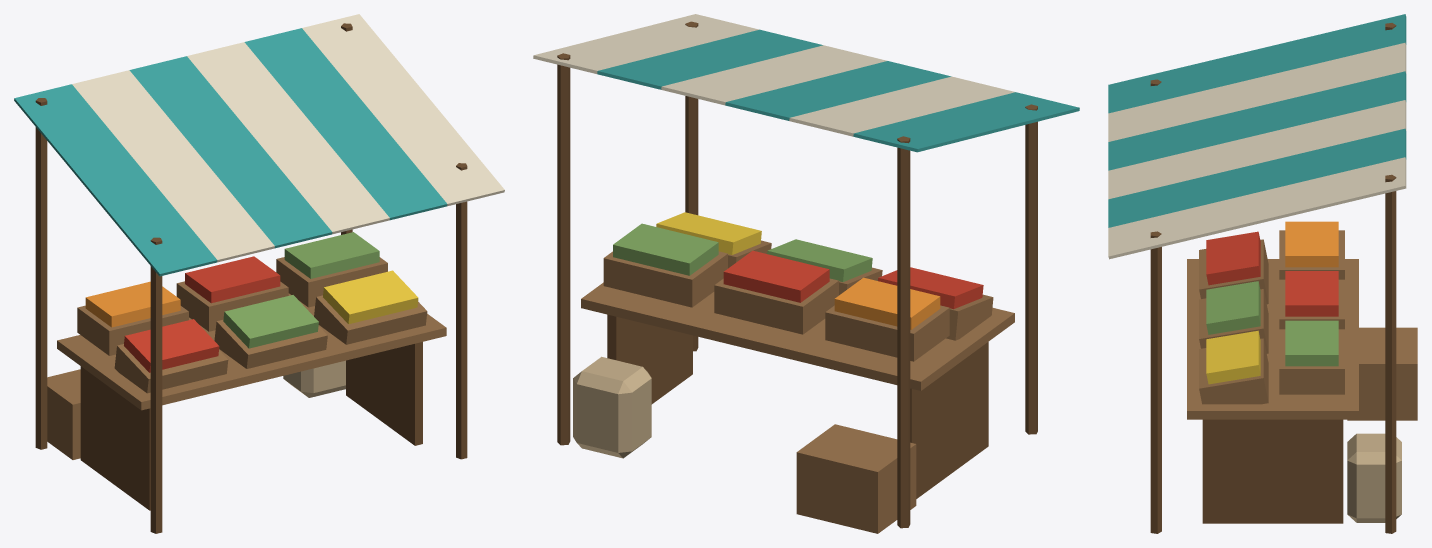
File: produce_stall.glb
3 views of the same model, side by side, from view 1: azimuth 30°, elevation 25°; view 2: azimuth 150°, elevation 25°; view 3: azimuth 270°, elevation 25° (orthographic). The views are drawn at different scales.
Visible parts, largest first — view 1: produce_stall; view 2: produce_stall; view 3: produce_stall.
Part boxes in pixels (x1,y1,x2,y2): produce_stall: (14,14,504,533); produce_stall: (533,14,1079,533); produce_stall: (1108,14,1417,533).
Bounding box in the file's own units: 2.6 × 2.51 × 1.98.
